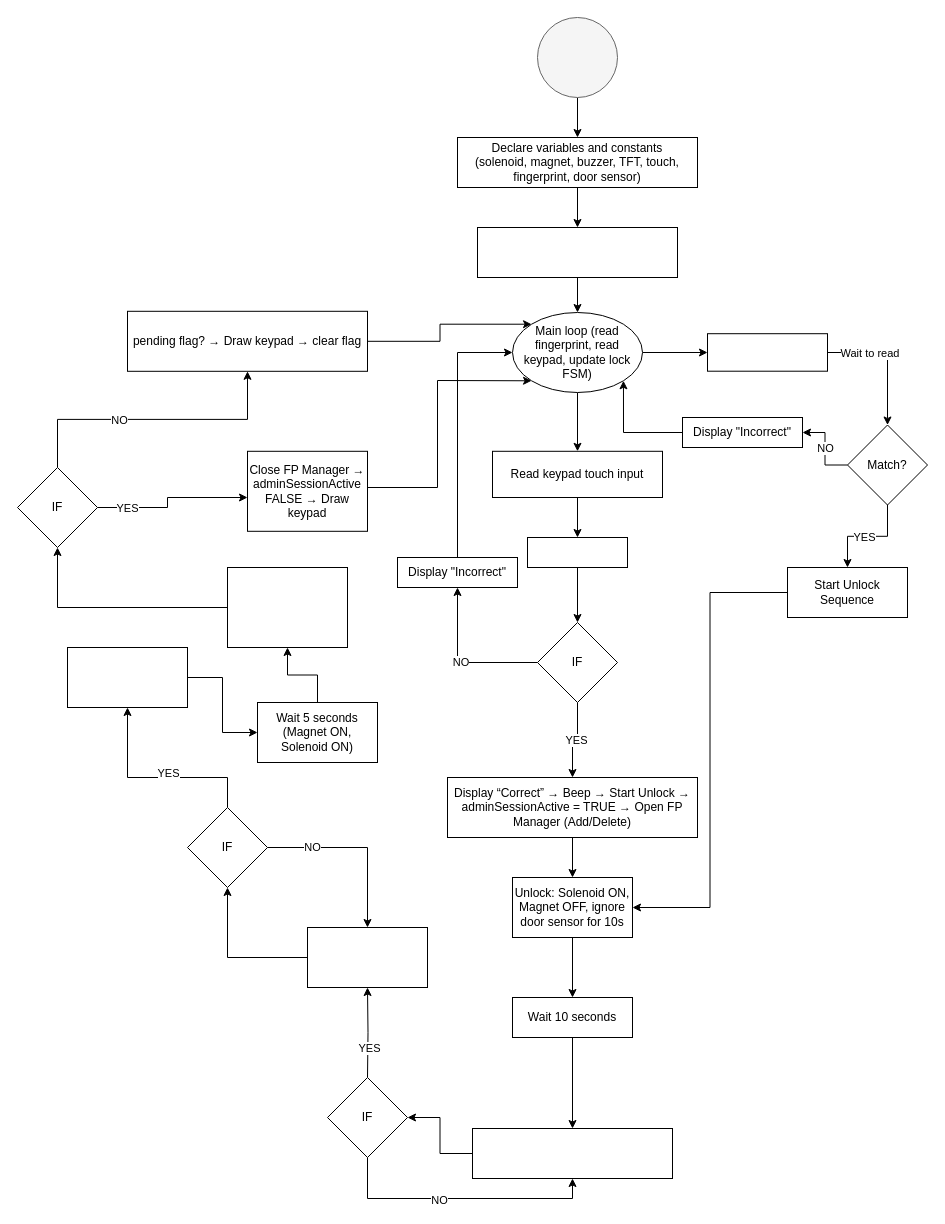
Image size: 945x1224. Some labels were removed from this diagram. Here are the shapes that lost their labels. From the top down, the box of each, then its label:
(536, 16, 618, 98): Start
(476, 226, 678, 278): Init outputs → init TFT/touch → init FP sensor → init door sensor → draw keypad
(706, 333, 828, 371): Fingerprint read
(526, 536, 628, 568): Wait for the CODE #
(226, 566, 348, 648): After 5 seconds: Solenoid = OFF (locked) Magnet = OFF State = LOCKED
(66, 646, 188, 708): Set state = MAGNET_ACTIVE Solenoid = ON Magnet = ON
(306, 926, 428, 988): Set state = WAIT_FOR_CLOSE Solenoid = ON Magnet = OFF
(472, 1128, 672, 1178): Set state = WAIT_FOR_OPEN Solenoid = ON Magnet = OFF
